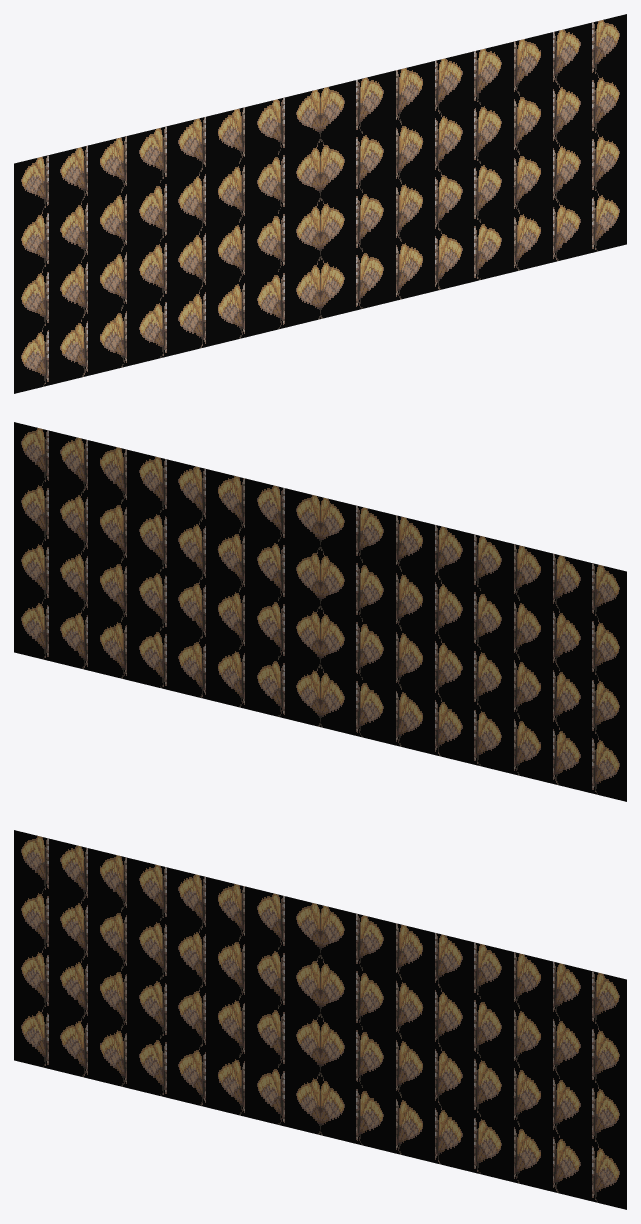
File: 4994musi04_e.gltf
3 renders of one model, top to bottom at view 1: azimuth 30°, elevation 25°; view 2: azimuth 150°, elevation 25°; view 3: azimuth 330°, elevation 25°, orthographic.
Parts seen in each view (by area): view 1: 4994musi04_e; view 2: 4994musi04_e; view 3: 4994musi04_e.
Part boxes in pixels (box(x1,y1,x2,y2)): 4994musi04_e: box(14, 14, 626, 393); 4994musi04_e: box(14, 422, 626, 801); 4994musi04_e: box(14, 830, 626, 1209).
Bounding box in the file's own units: 0.6206 × 0.2229 × 0.
1 material, 1 textured.
